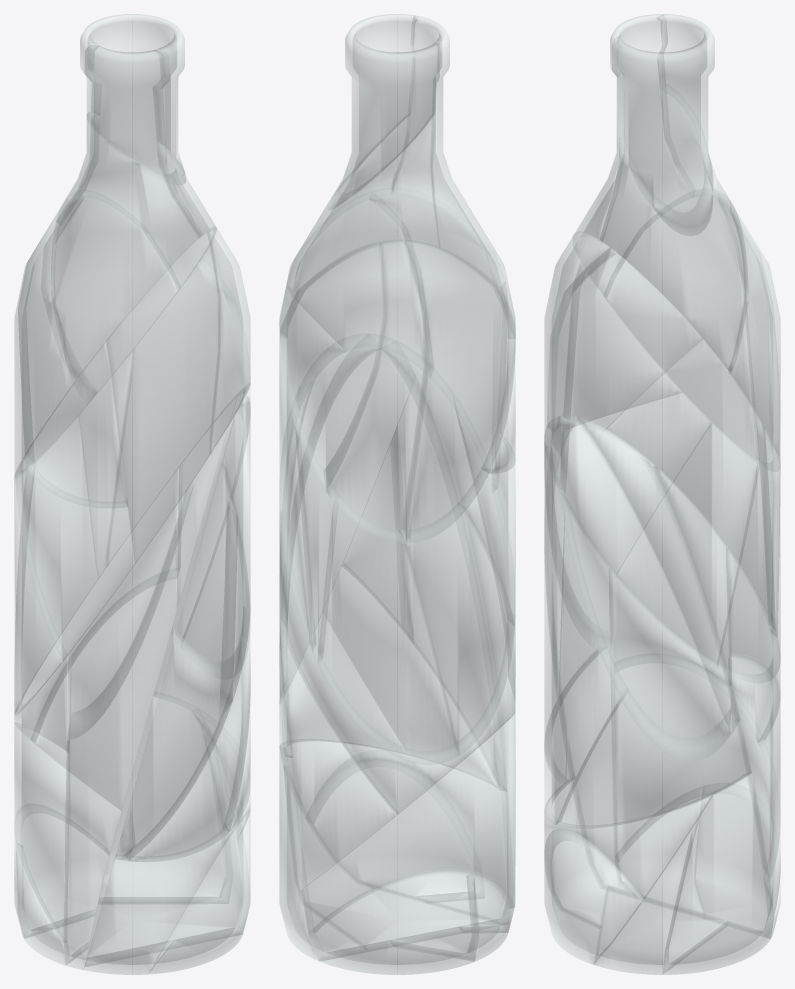
The model's file is fracture-solids.glb.
3 renders of one model, left to right at view 1: azimuth 30°, elevation 25°; view 2: azimuth 150°, elevation 25°; view 3: azimuth 270°, elevation 25°, orthographic.
Parts seen in each view (by area): view 1: fragment-003, fragment-001, fragment-023, fragment-030, fragment-008, fragment-012, fragment-020, fragment-019, fragment-026, fragment-006, fragment-011, fragment-015 (+21 smaller); view 2: fragment-011, fragment-004, fragment-005, fragment-021, fragment-020, fragment-010, fragment-001, fragment-030, fragment-028, fragment-009, fragment-014, fragment-019 (+20 smaller); view 3: fragment-016, fragment-008, fragment-004, fragment-007, fragment-005, fragment-009, fragment-006, fragment-010, fragment-012, fragment-025, fragment-003, fragment-023 (+20 smaller).
Boxes of the visible parts, bbox=[...] form: fragment-003: bbox=[51, 45, 202, 381]; fragment-001: bbox=[106, 229, 220, 564]; fragment-023: bbox=[64, 414, 234, 969]; fragment-030: bbox=[120, 459, 237, 860]; fragment-008: bbox=[107, 263, 249, 565]; fragment-012: bbox=[99, 696, 224, 897]; fragment-020: bbox=[51, 197, 177, 391]; fragment-019: bbox=[36, 578, 176, 810]; fragment-026: bbox=[15, 454, 134, 661]; fragment-006: bbox=[80, 14, 185, 183]; fragment-011: bbox=[15, 415, 97, 712]; fragment-015: bbox=[84, 711, 250, 974]; fragment-011: bbox=[317, 495, 459, 764]; fragment-004: bbox=[401, 238, 515, 543]; fragment-005: bbox=[301, 714, 514, 933]; fragment-021: bbox=[324, 238, 428, 543]; fragment-020: bbox=[280, 240, 387, 491]; fragment-010: bbox=[398, 504, 514, 754]; fragment-001: bbox=[370, 195, 504, 492]; fragment-030: bbox=[398, 392, 493, 772]; fragment-028: bbox=[308, 869, 478, 974]; fragment-009: bbox=[286, 200, 430, 377]; fragment-014: bbox=[314, 767, 472, 896]; fragment-019: bbox=[280, 619, 398, 889]; fragment-016: bbox=[552, 415, 731, 761]; fragment-008: bbox=[603, 339, 775, 631]; fragment-004: bbox=[607, 190, 756, 458]; fragment-007: bbox=[600, 91, 748, 373]; fragment-005: bbox=[614, 663, 780, 916]; fragment-009: bbox=[547, 248, 702, 432]; fragment-006: bbox=[611, 14, 714, 235]; fragment-010: bbox=[617, 423, 757, 662]; fragment-012: bbox=[663, 773, 773, 974]; fragment-025: bbox=[556, 691, 751, 828]; fragment-003: bbox=[573, 14, 693, 297]; fragment-023: bbox=[544, 416, 642, 895].
Size of the model in its own units: 0.072 by 0.3 by 0.072.
Materials: 1 (1 with a texture image).
